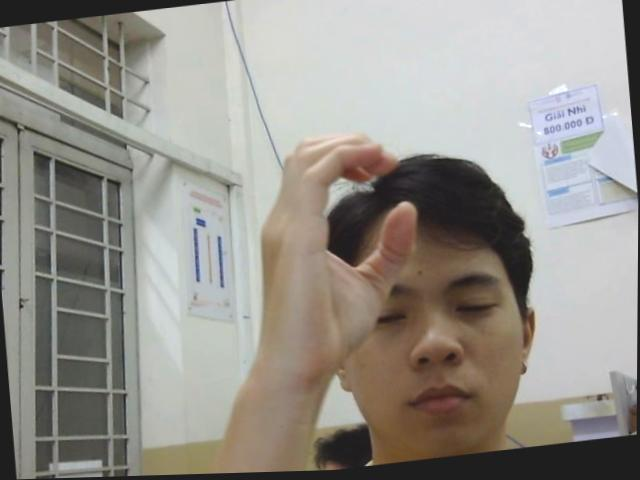C: (240, 124, 428, 382)
